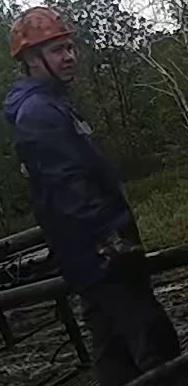gloves: (88, 215, 143, 275)
helmet: (9, 5, 77, 58)
vest: (7, 75, 142, 292)
